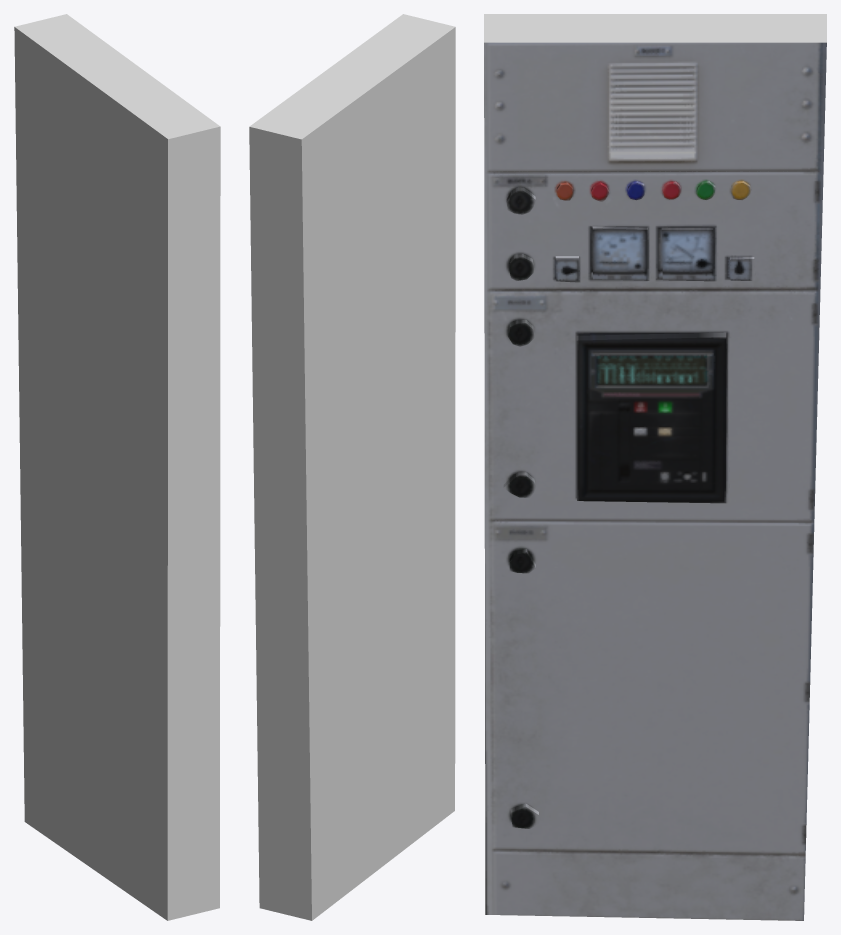
File: panel3_1.fbx
3 renders of one model, left to right at view 1: azimuth 30°, elevation 25°; view 2: azimuth 150°, elevation 25°; view 3: azimuth 270°, elevation 25°, orthographic. The views are drawn at different scales.
Parts seen in each view (by area): view 1: panel3; view 2: panel3; view 3: panel3.
Part boxes in pixels (x1,y1,x2,y2): panel3: [14, 14, 220, 920]; panel3: [249, 14, 455, 920]; panel3: [484, 14, 826, 920].
Size of the model in its own units: 164 by 2026 by 717.
2 materials, 1 textured.
